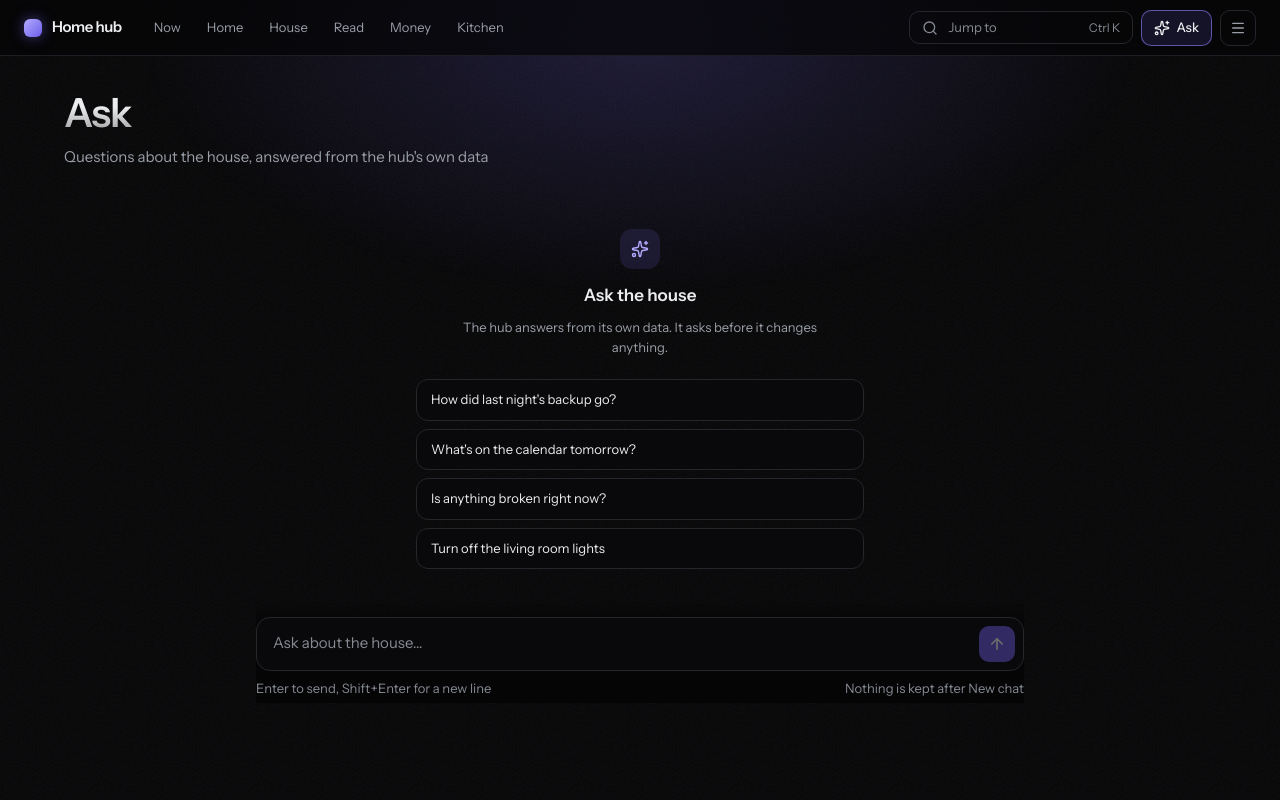
Test case: AskPage › shows the hub’s reason when the question is refused
Expected: the heading "Ask the house" is shown, [584,282,696,308]
In the text box named "Your question": (621, 644) [273,626,969,662], type "What is on tomorrow?"
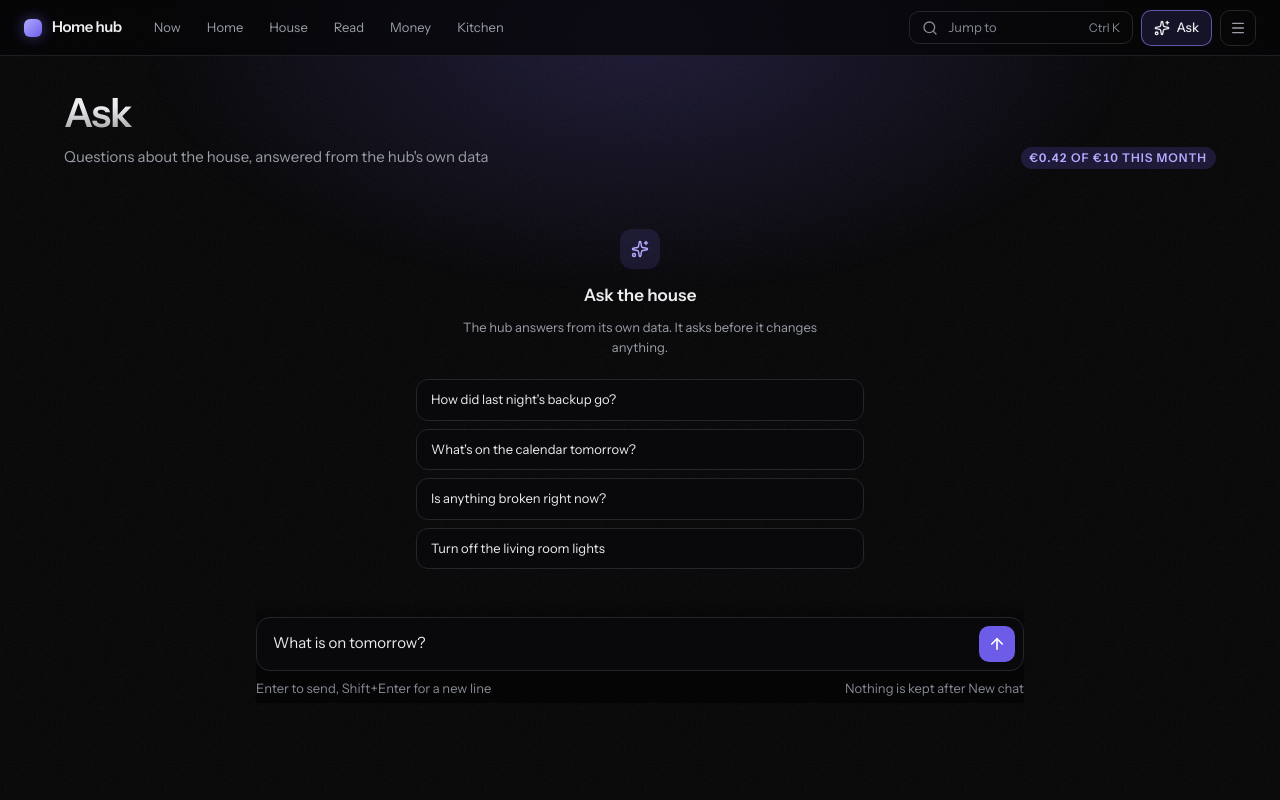
Press Enter in the text box named "Your question", box [273,626,969,662]
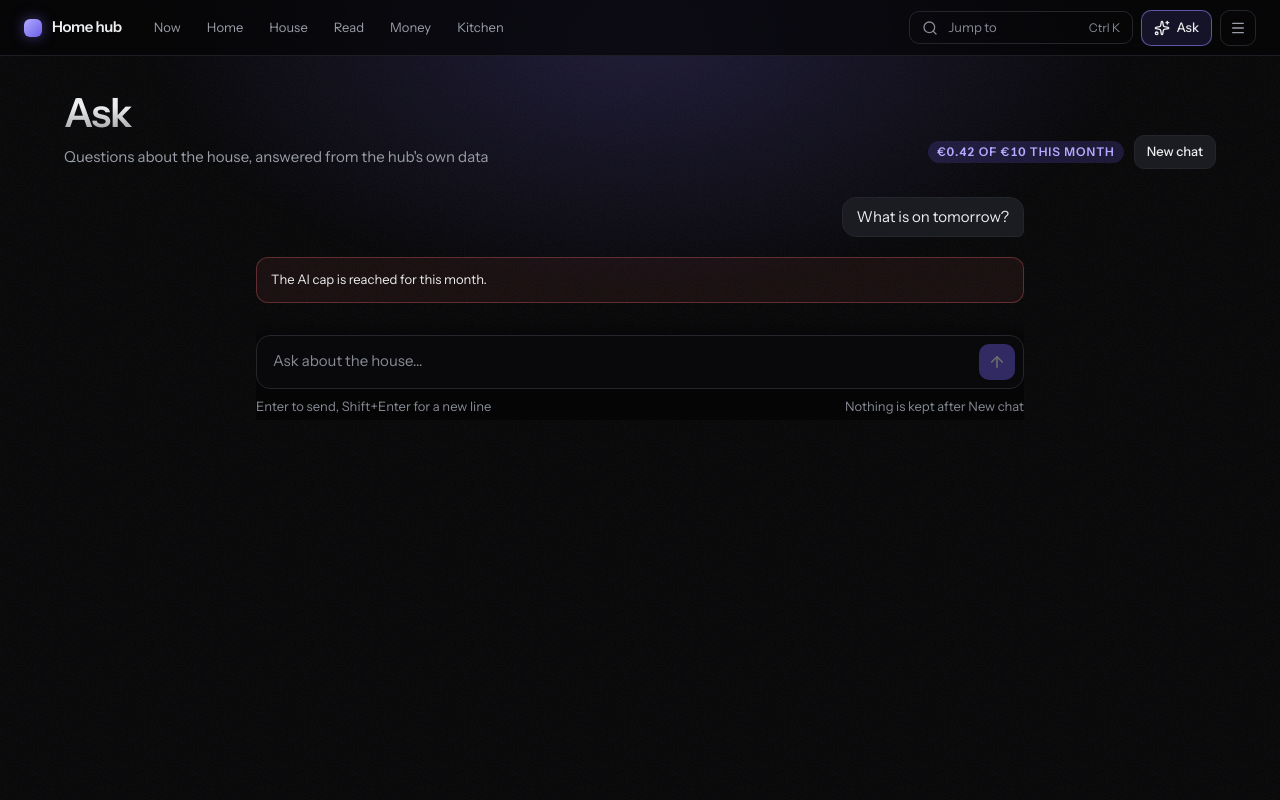
Result: the message reads "The AI cap is reached for this month." at [271,271,487,287]
